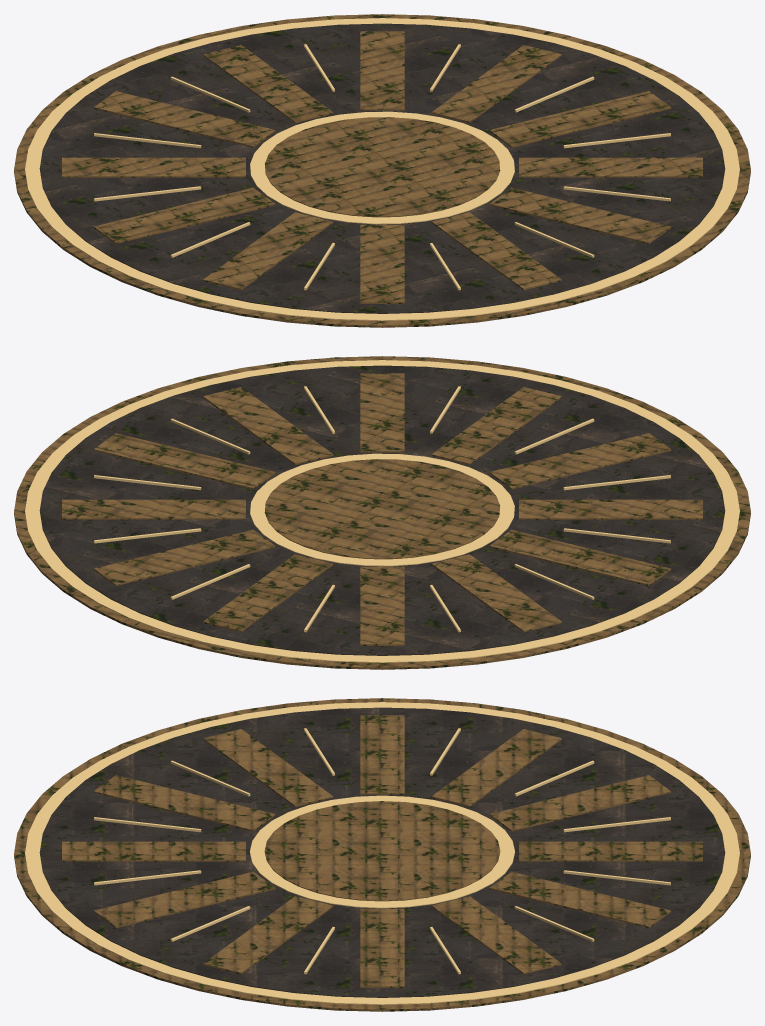
Rendered from Seal_Arena.fbx.
3 views of the same model, one above another, from view 1: azimuth 30°, elevation 25°; view 2: azimuth 150°, elevation 25°; view 3: azimuth 270°, elevation 25° (orthographic).
Parts seen in each view (by area): view 1: Seal_Arena; view 2: Seal_Arena; view 3: Seal_Arena.
Part boxes in pixels (bbox=[...]): Seal_Arena: bbox=[14, 14, 750, 327]; Seal_Arena: bbox=[14, 356, 750, 669]; Seal_Arena: bbox=[14, 698, 750, 1011].
Size of the model in its own units: 18 by 0.16 by 18.
